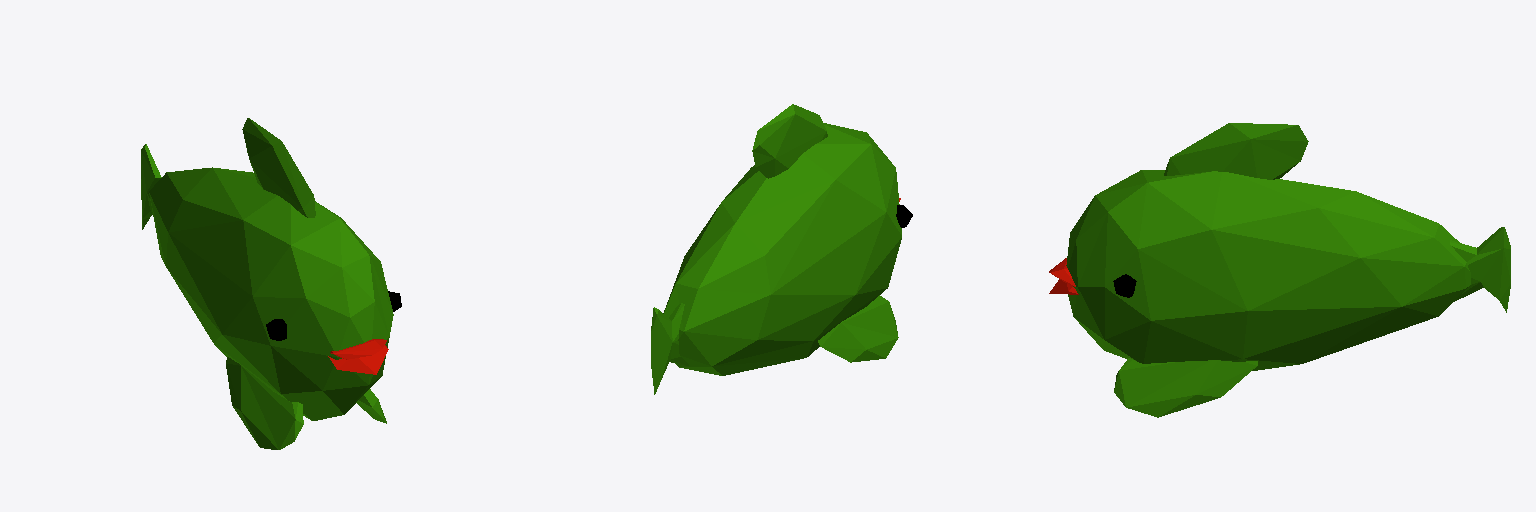
Rendered from BoidsReduced.obj.
The picture shows the model from 3 angles: view 1: azimuth 30°, elevation 25°; view 2: azimuth 150°, elevation 25°; view 3: azimuth 270°, elevation 25°; orthographic projection.
Parts seen in each view (by area): view 1: Sphere; view 2: Sphere; view 3: Sphere.
Boxes of the visible parts, x1=… form: Sphere: x1=141, y1=118, x2=401, y2=449; Sphere: x1=651, y1=104, x2=912, y2=394; Sphere: x1=1049, y1=123, x2=1510, y2=417.
Bounding box in the file's own units: 1.36 × 2.63 × 4.13.